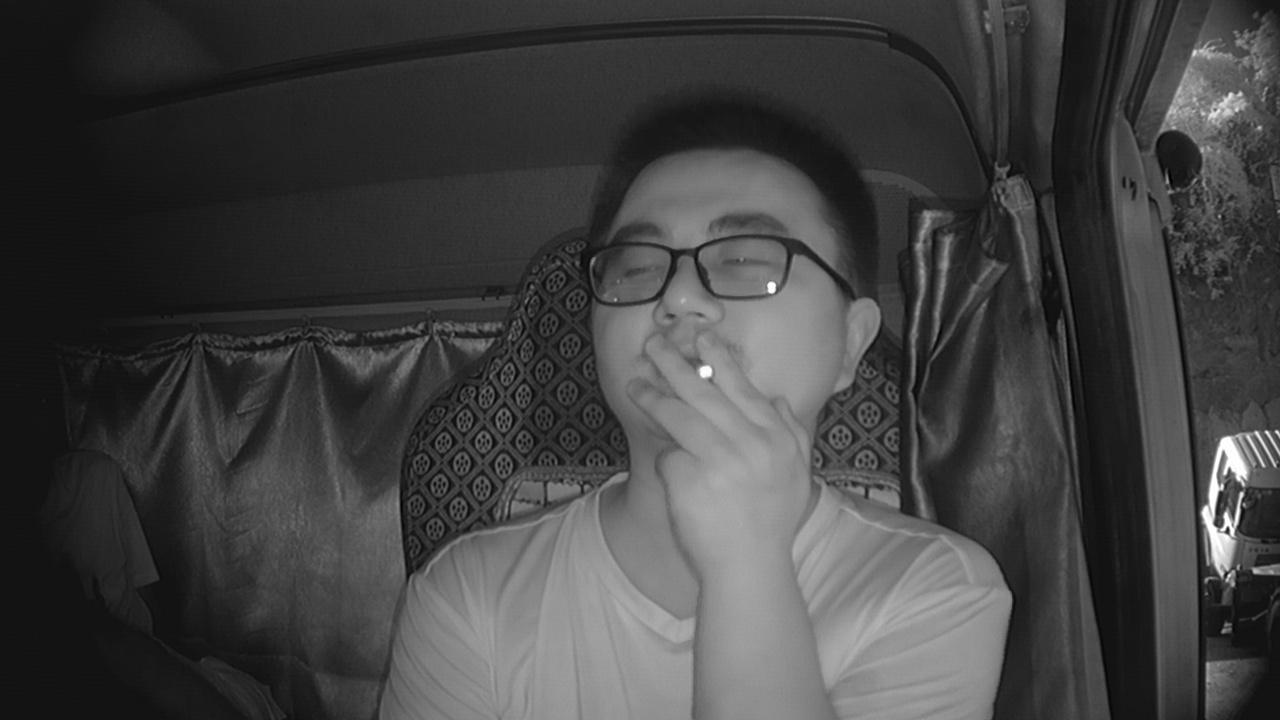hand: (629, 333, 795, 546)
